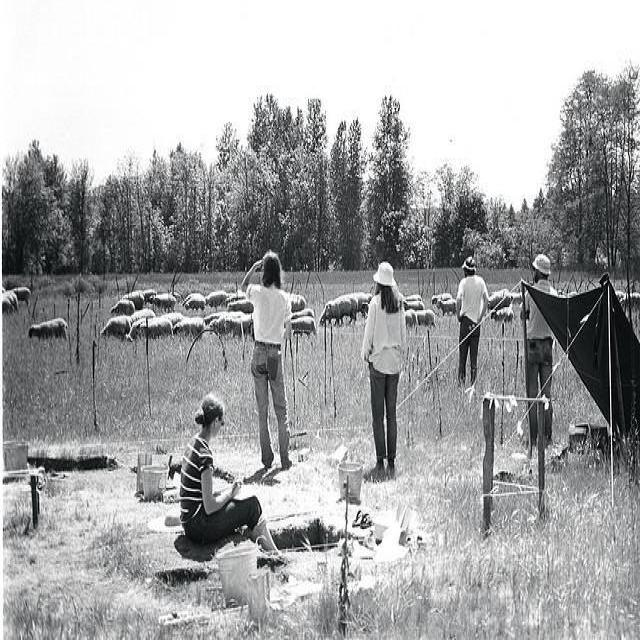Sheep: (3, 282, 638, 344)
